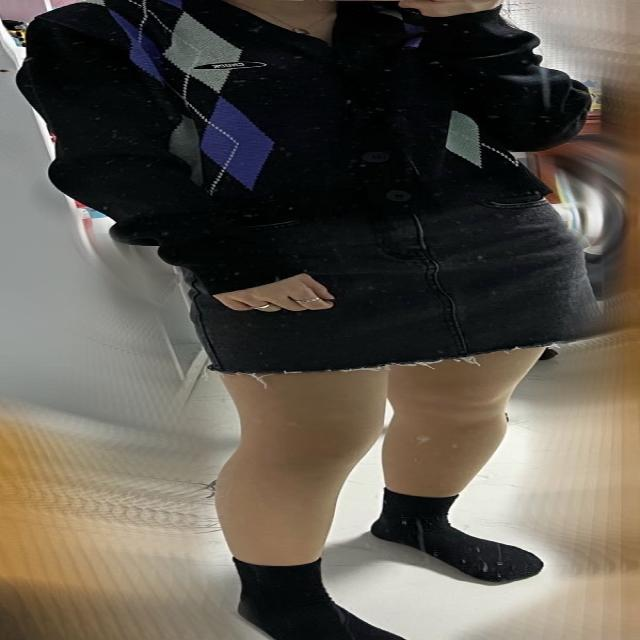cardigan: (16, 0, 592, 294)
skirt: (187, 198, 632, 374)
